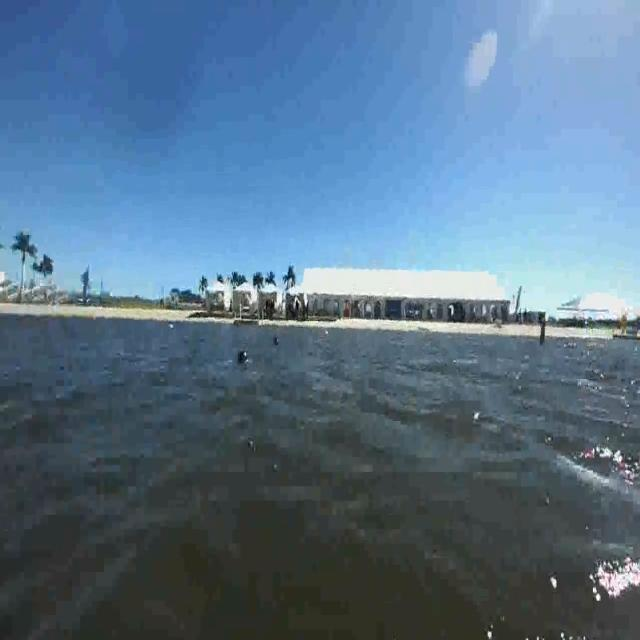black-buoy: (235, 345, 248, 363)
